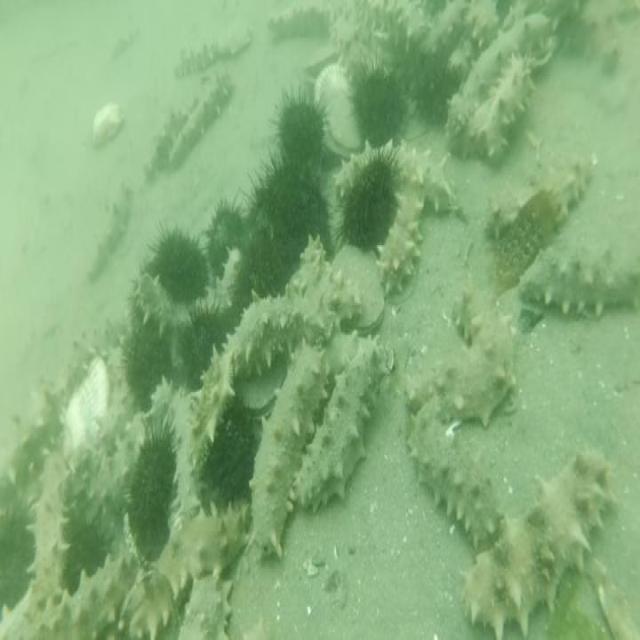echinus: (235, 152, 329, 245), (122, 418, 178, 562), (332, 148, 404, 254), (205, 398, 262, 512), (138, 220, 210, 302), (226, 228, 292, 314), (175, 302, 237, 393), (349, 58, 408, 152), (118, 318, 177, 410), (269, 87, 329, 175), (200, 191, 249, 283), (408, 47, 457, 133), (62, 509, 112, 588), (0, 506, 36, 610)
holothurian: (458, 444, 618, 640), (242, 340, 331, 569), (288, 336, 393, 516), (443, 10, 558, 158), (404, 281, 518, 430), (407, 395, 504, 555), (221, 283, 331, 387), (0, 553, 128, 640), (479, 150, 598, 243), (514, 240, 640, 324), (332, 136, 458, 218), (458, 48, 538, 168), (154, 499, 250, 586), (26, 444, 71, 610), (294, 229, 364, 330), (167, 70, 234, 172), (188, 340, 238, 476), (374, 180, 428, 304), (0, 386, 57, 501), (79, 422, 144, 518), (49, 322, 113, 416), (140, 95, 200, 194), (84, 179, 134, 289), (167, 384, 201, 521), (98, 338, 135, 460), (352, 0, 434, 55), (118, 570, 180, 640), (188, 245, 245, 321), (175, 572, 236, 640), (134, 268, 191, 336), (266, 0, 344, 44), (413, 0, 467, 60), (337, 36, 386, 90), (170, 35, 220, 85), (327, 0, 370, 54), (463, 0, 498, 51), (448, 32, 478, 78)
scallop: (60, 352, 110, 471), (332, 239, 386, 335), (314, 62, 362, 166), (241, 359, 288, 425), (298, 41, 346, 90), (87, 98, 127, 153), (211, 19, 257, 60)
